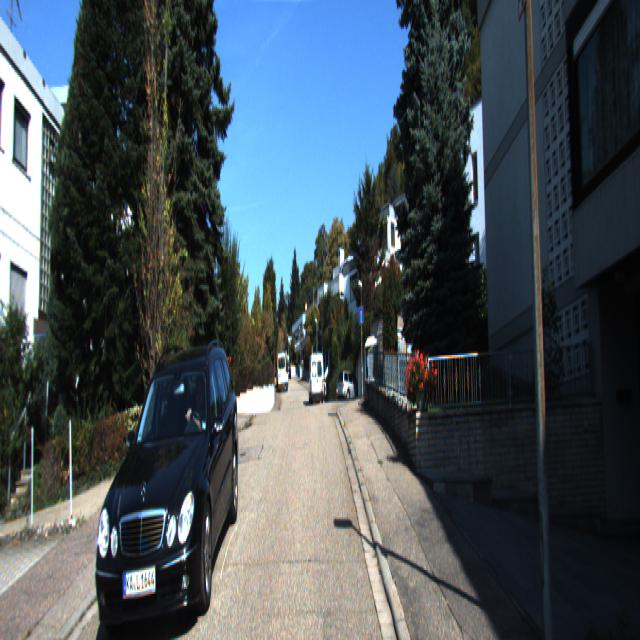Car: (95, 334, 243, 638), (308, 351, 325, 408)
